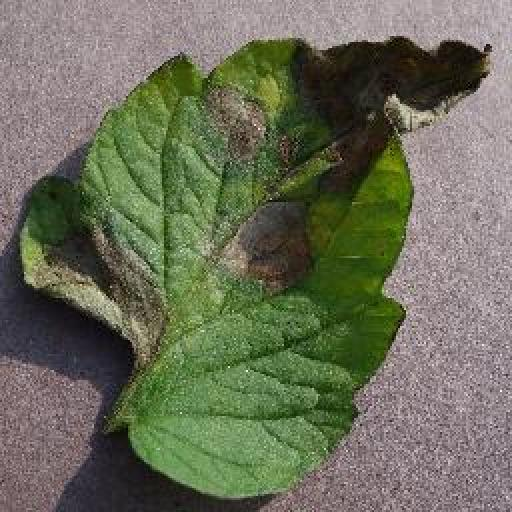Late Blight: (18, 38, 490, 498)
